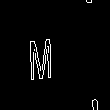M_N: (42, 28, 68, 82)
